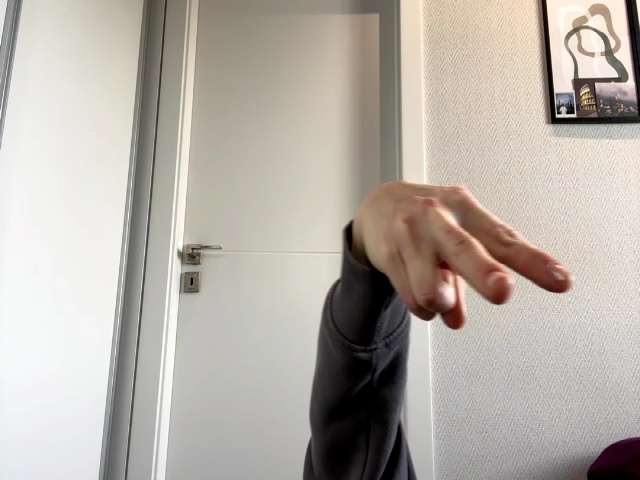U: (356, 181, 571, 329)
